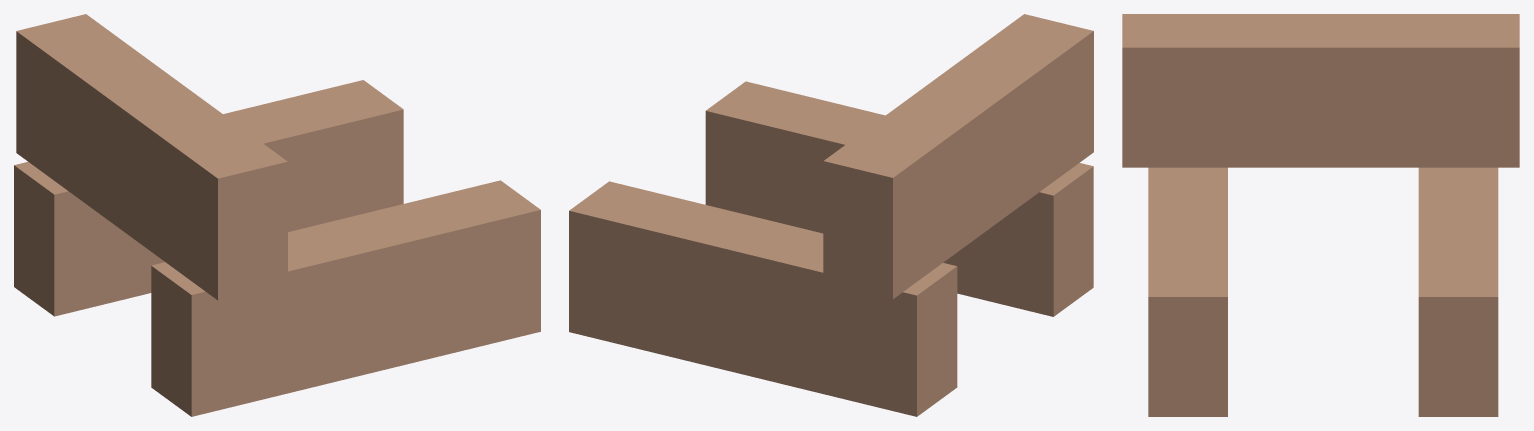
The model's file is env18.dae.
The picture shows the model from 3 angles, left to right: view 1: azimuth 30°, elevation 25°; view 2: azimuth 150°, elevation 25°; view 3: azimuth 270°, elevation 25°; orthographic projection.
Parts seen in each view (by area): view 1: base (×3); view 2: base (×3); view 3: base (×3).
Boxes of the visible parts, box(x1,y1,x2,y2) form: base (×3): box(14, 14, 540, 416); base (×3): box(569, 14, 1093, 416); base (×3): box(1122, 14, 1519, 416).
Size of the model in its own units: 0.1524 by 0.1524 by 0.102.
